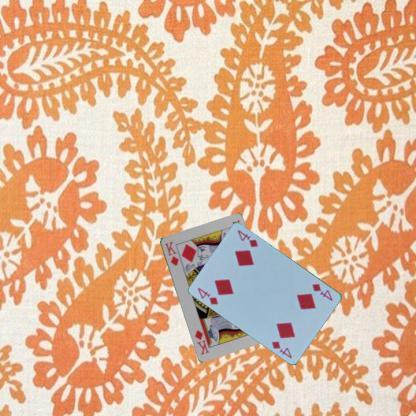4d: (195, 284, 220, 306), (310, 281, 334, 303)
Kd: (162, 238, 180, 268)
